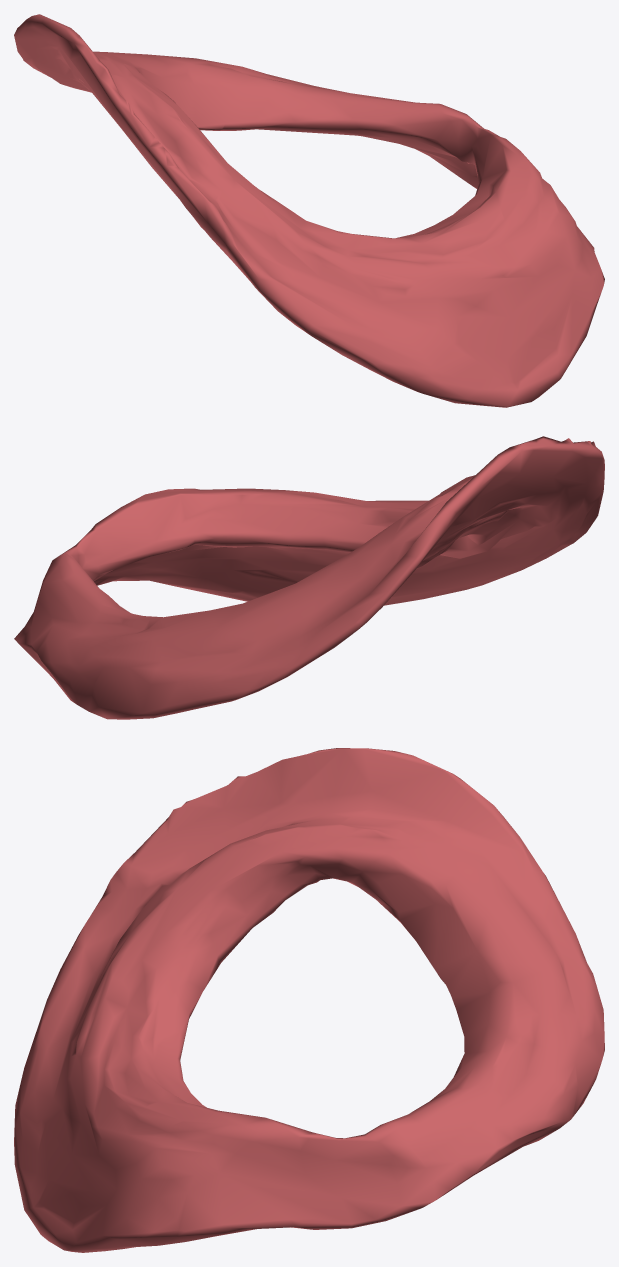
The picture shows the model from 3 angles, top to bottom: view 1: azimuth 30°, elevation 25°; view 2: azimuth 150°, elevation 25°; view 3: azimuth 270°, elevation 25°; orthographic projection. The views are drawn at different scales.
Parts seen in each view (by area): view 1: 右侧眼轮匝肌眶部; view 2: 右侧眼轮匝肌眶部; view 3: 右侧眼轮匝肌眶部.
Part boxes in pixels (left/top/right/bottom): 右侧眼轮匝肌眶部: left=14, top=14, right=604, bottom=407; 右侧眼轮匝肌眶部: left=14, top=436, right=604, bottom=719; 右侧眼轮匝肌眶部: left=14, top=748, right=604, bottom=1252.
Size of the model in its own units: 0.0652 by 0.0462 by 0.0732.
